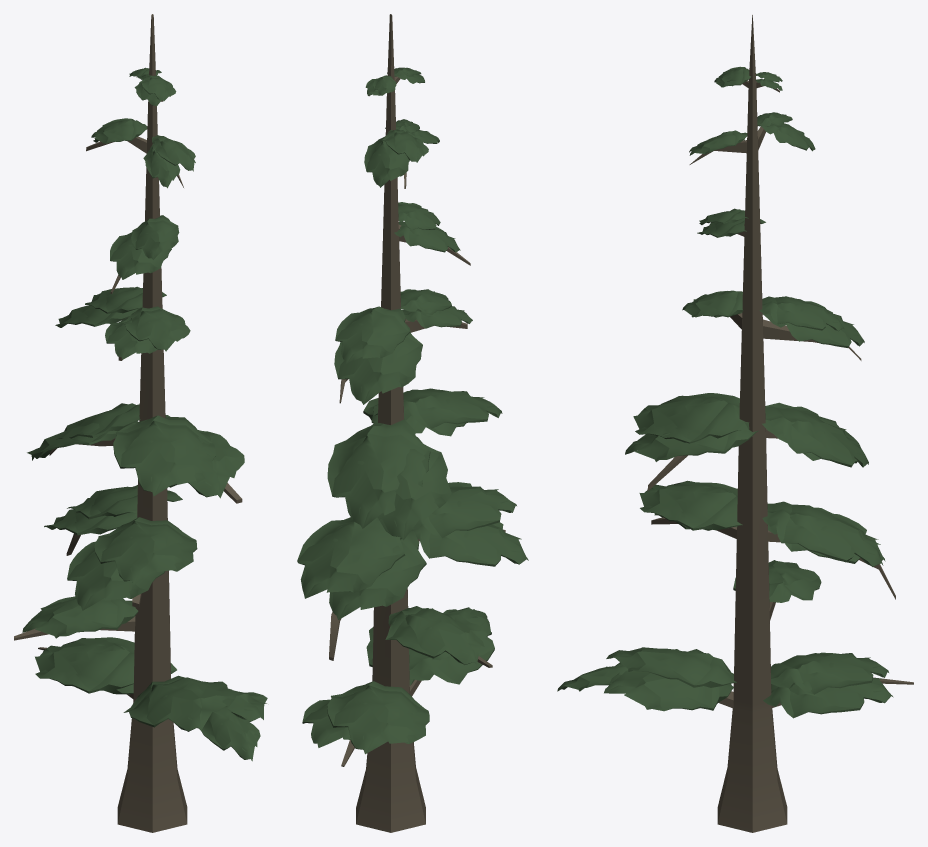
File: tree3.fbx
3 renders of one model, left to right at view 1: azimuth 30°, elevation 25°; view 2: azimuth 150°, elevation 25°; view 3: azimuth 270°, elevation 25°, orthographic.
Parts seen in each view (by area): view 1: pPlatonic29; view 2: pPlatonic29; view 3: pPlatonic29.
Boxes of the visible parts, x1,y1,x2,y2 form: pPlatonic29: (14,14,267,832); pPlatonic29: (297,14,528,832); pPlatonic29: (557,15,913,832).
Bounding box in the file's own units: 8.77 × 36.04 × 14.53.
